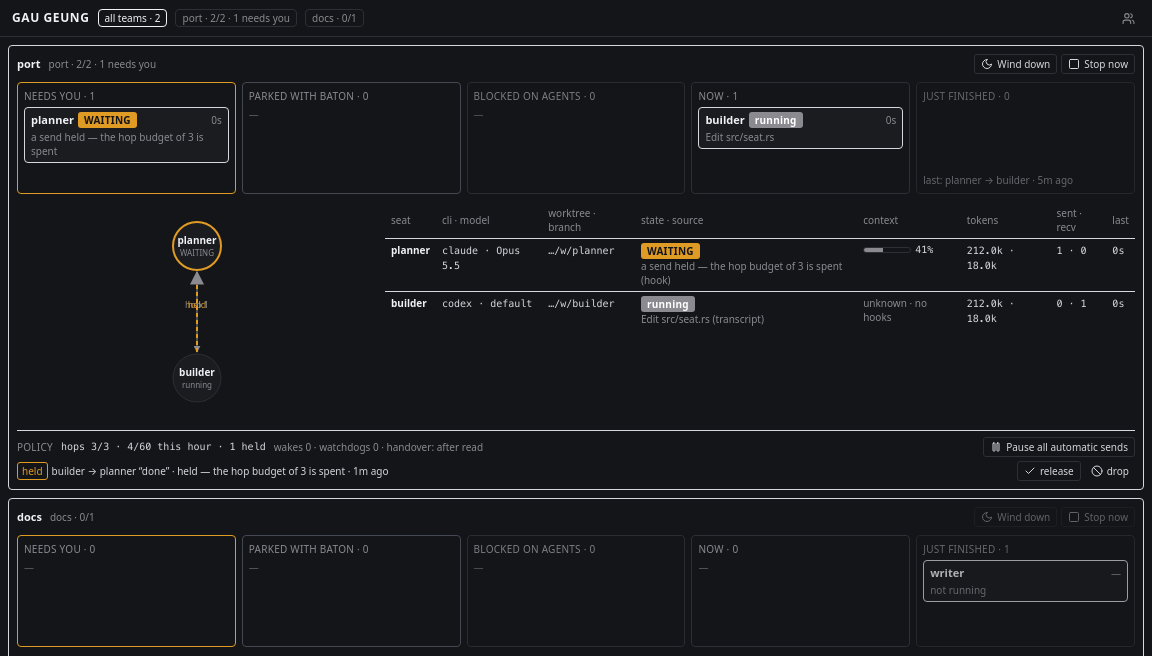
Test: the Gau Geung board › shows one team or all of them from the tabs
Click the button with test id "tab-t2" at (334, 18), box [305, 9, 364, 27]
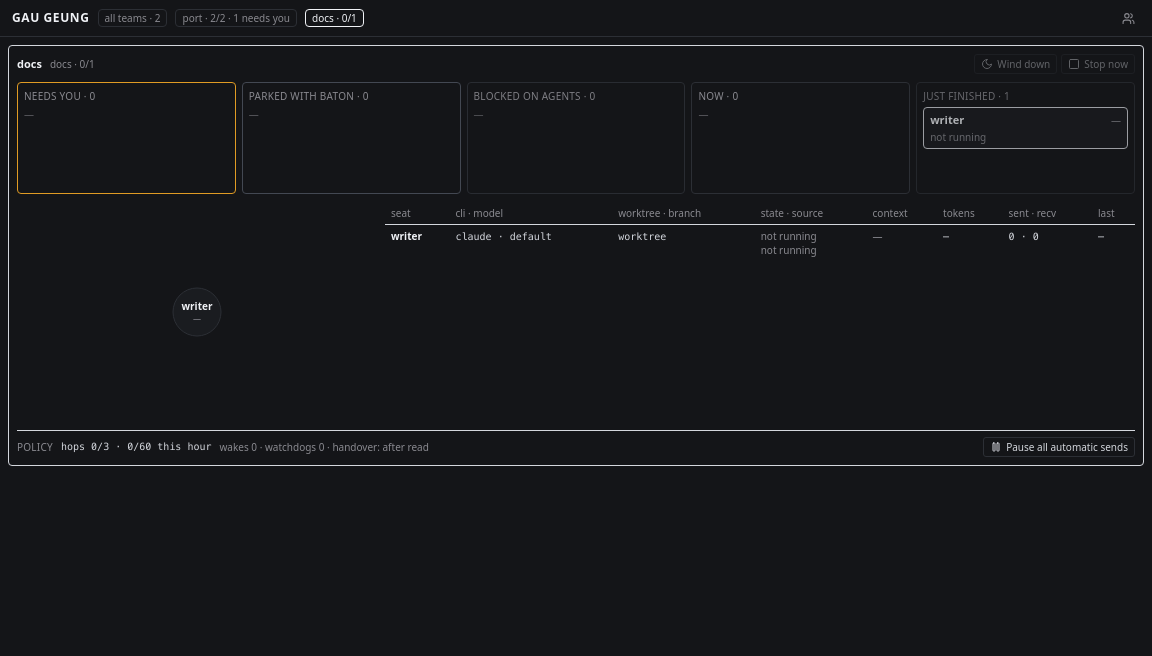
Expected: the element with test id "team-t2" shows "docs · 0/1", [50, 57, 95, 71]
Expected: the element with test id "team-t1" is gone
Click the button "all teams · 2" at (132, 18), box [98, 9, 168, 27]
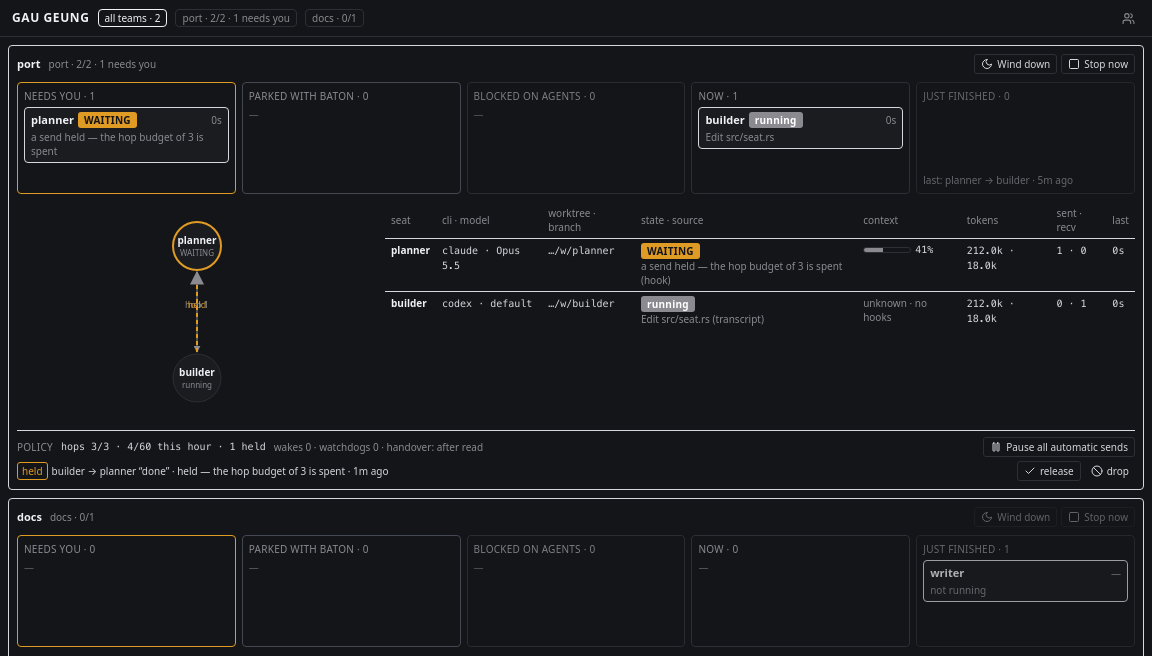
Expected: the element with test id "team-t1" is shown
